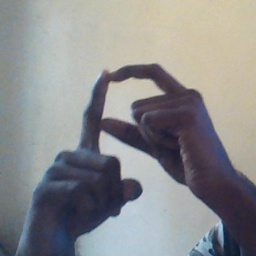D: (71, 55, 197, 180)
